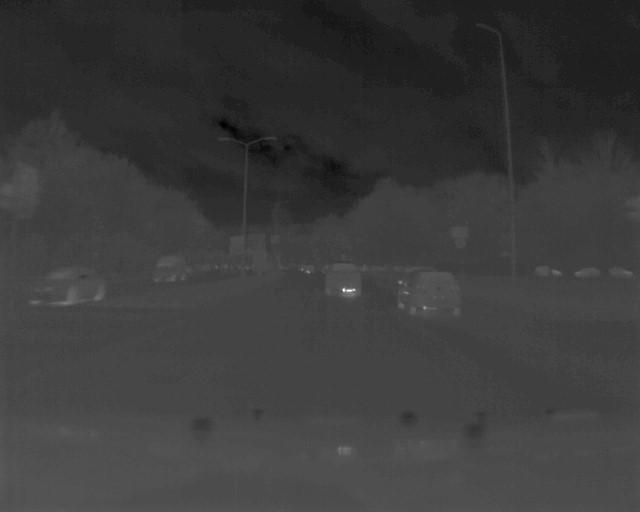car: (25, 264, 108, 308), (394, 269, 465, 317), (322, 258, 365, 300), (148, 252, 188, 285)
